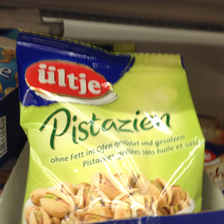nuts: (16, 27, 205, 224)
